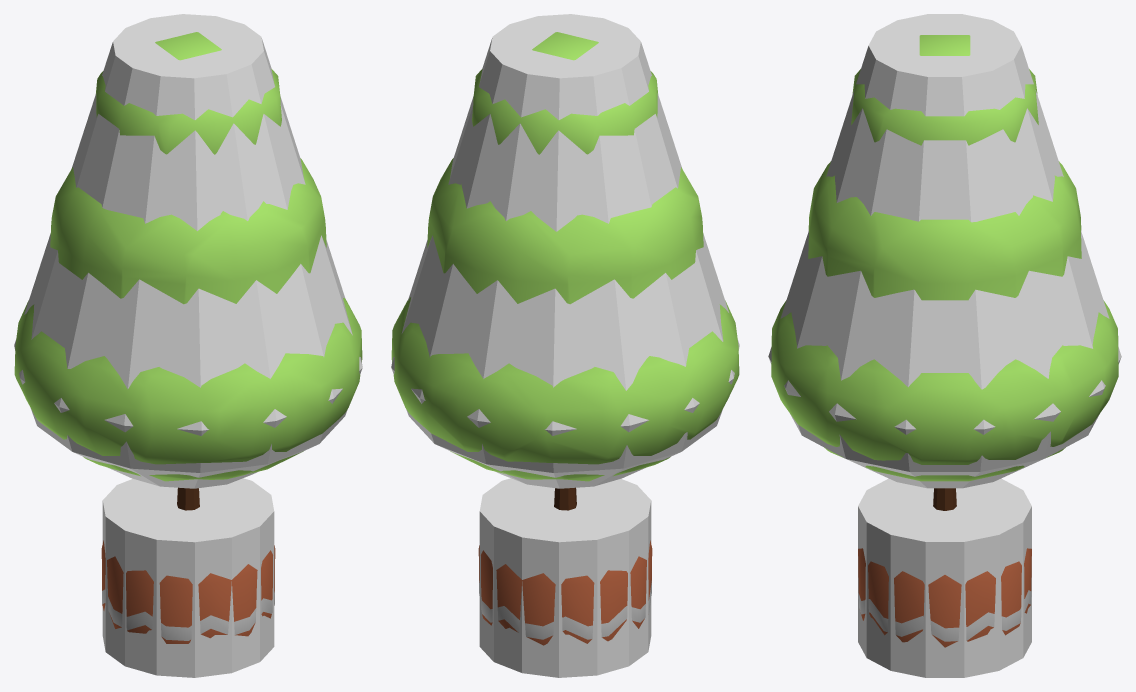
Rendered from pottedTree.fbx.
The picture shows the model from 3 angles, left to right: view 1: azimuth 30°, elevation 25°; view 2: azimuth 150°, elevation 25°; view 3: azimuth 270°, elevation 25°; orthographic projection.
Parts seen in each view (by area): view 1: Potted Tree, ECX_Potted Tree, ECX_Cylinder; view 2: Potted Tree, ECX_Potted Tree, ECX_Cylinder; view 3: Potted Tree, ECX_Potted Tree, ECX_Cylinder.
Part boxes in pixels (box(x1,y1,x2,y2)): Potted Tree: box(14, 32, 362, 643); ECX_Potted Tree: box(14, 14, 362, 488); ECX_Cylinder: box(102, 478, 274, 677); Potted Tree: box(391, 32, 739, 645); ECX_Potted Tree: box(391, 14, 739, 488); ECX_Cylinder: box(479, 478, 651, 677); Potted Tree: box(771, 35, 1118, 647); ECX_Potted Tree: box(768, 14, 1121, 488); ECX_Cylinder: box(858, 478, 1031, 677).
Bounding box in the file's own units: 93.24 × 177 × 94.78.
